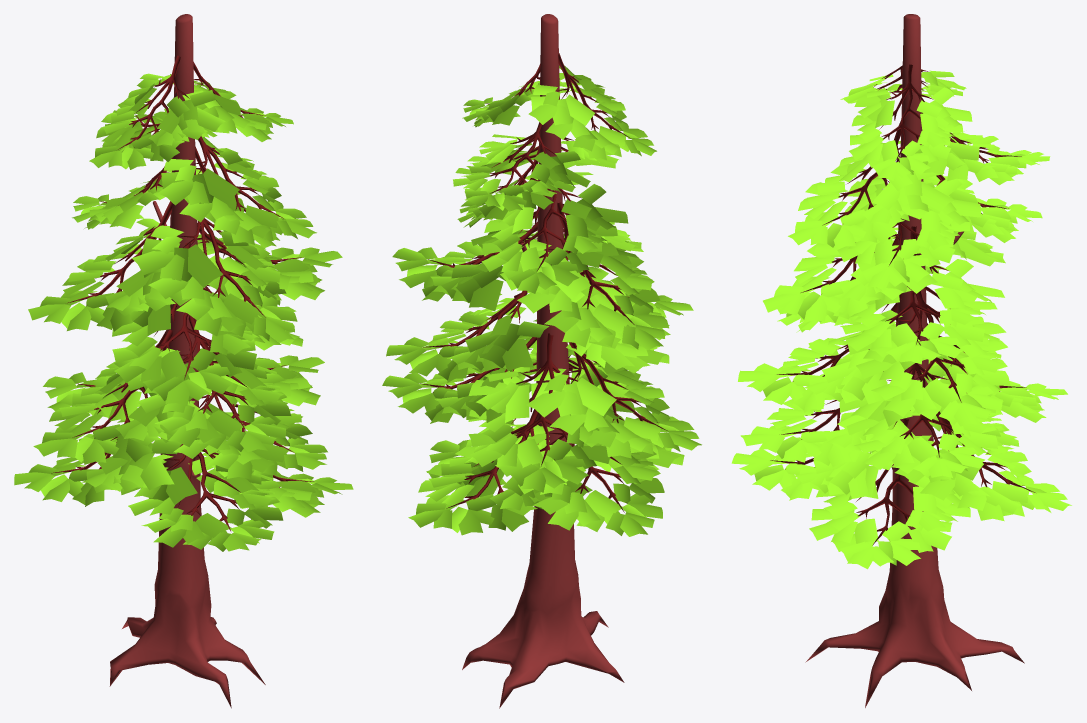
File: DeadTree_01.FBX
The picture shows the model from 3 angles, left to right: view 1: azimuth 30°, elevation 25°; view 2: azimuth 150°, elevation 25°; view 3: azimuth 270°, elevation 25°; orthographic projection.
Parts seen in each view (by area): view 1: DeadTree_01; view 2: DeadTree_01; view 3: DeadTree_01.
Part boxes in pixels (x1=…): DeadTree_01: x1=14, y1=14, x2=353, y2=708; DeadTree_01: x1=382, y1=14, x2=701, y2=708; DeadTree_01: x1=731, y1=14, x2=1071, y2=707.
Size of the model in its own units: 9.11 by 19.29 by 8.95.
